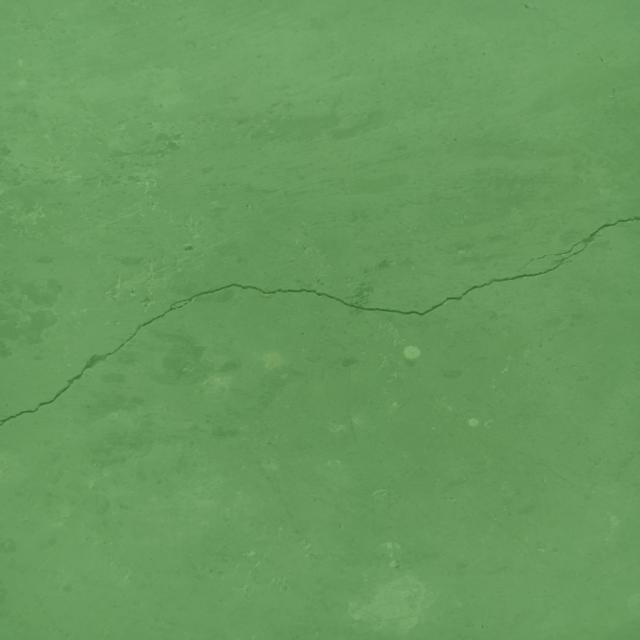crack: (0, 216, 640, 426)
